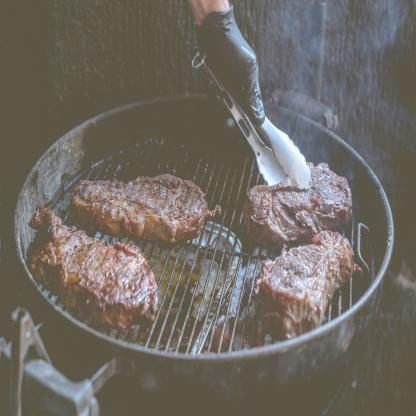Carne: (32, 203, 158, 321), (243, 167, 354, 243), (258, 234, 356, 319), (74, 176, 207, 235)
